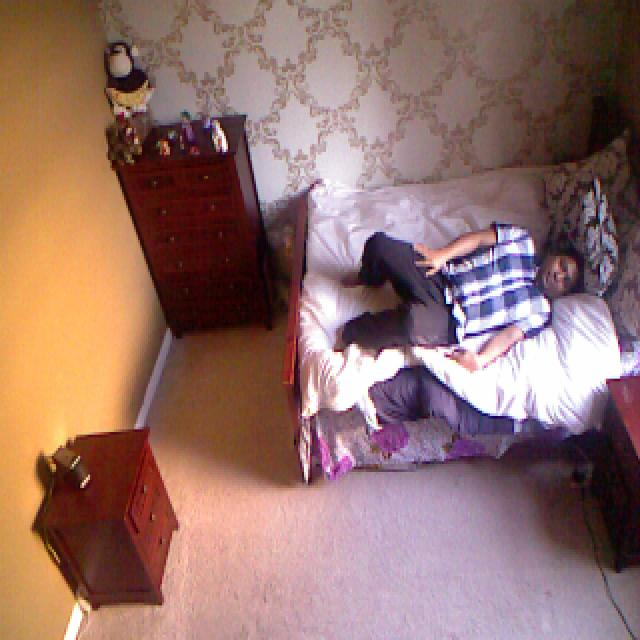lying: (322, 213, 588, 390)
